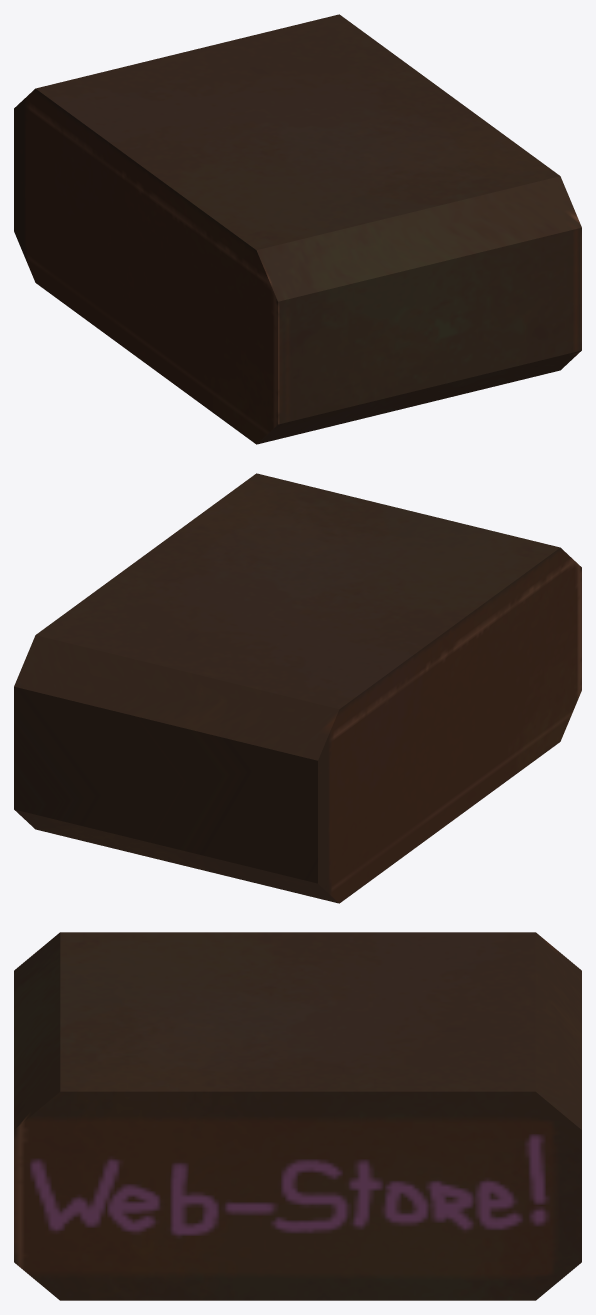
The model's file is SM_outsidesign.fbx.
3 renders of one model, top to bottom at view 1: azimuth 30°, elevation 25°; view 2: azimuth 150°, elevation 25°; view 3: azimuth 270°, elevation 25°, orthographic. The views are drawn at different scales.
Parts seen in each view (by area): view 1: TableBox_low.001; view 2: TableBox_low.001; view 3: TableBox_low.001.
Part boxes in pixels (x1,y1,x2,y2): TableBox_low.001: [14, 14, 581, 444]; TableBox_low.001: [14, 473, 581, 903]; TableBox_low.001: [14, 932, 581, 1300].
Size of the model in its own units: 144 by 87.74 by 216.
Materials: 1 (1 with a texture image).
